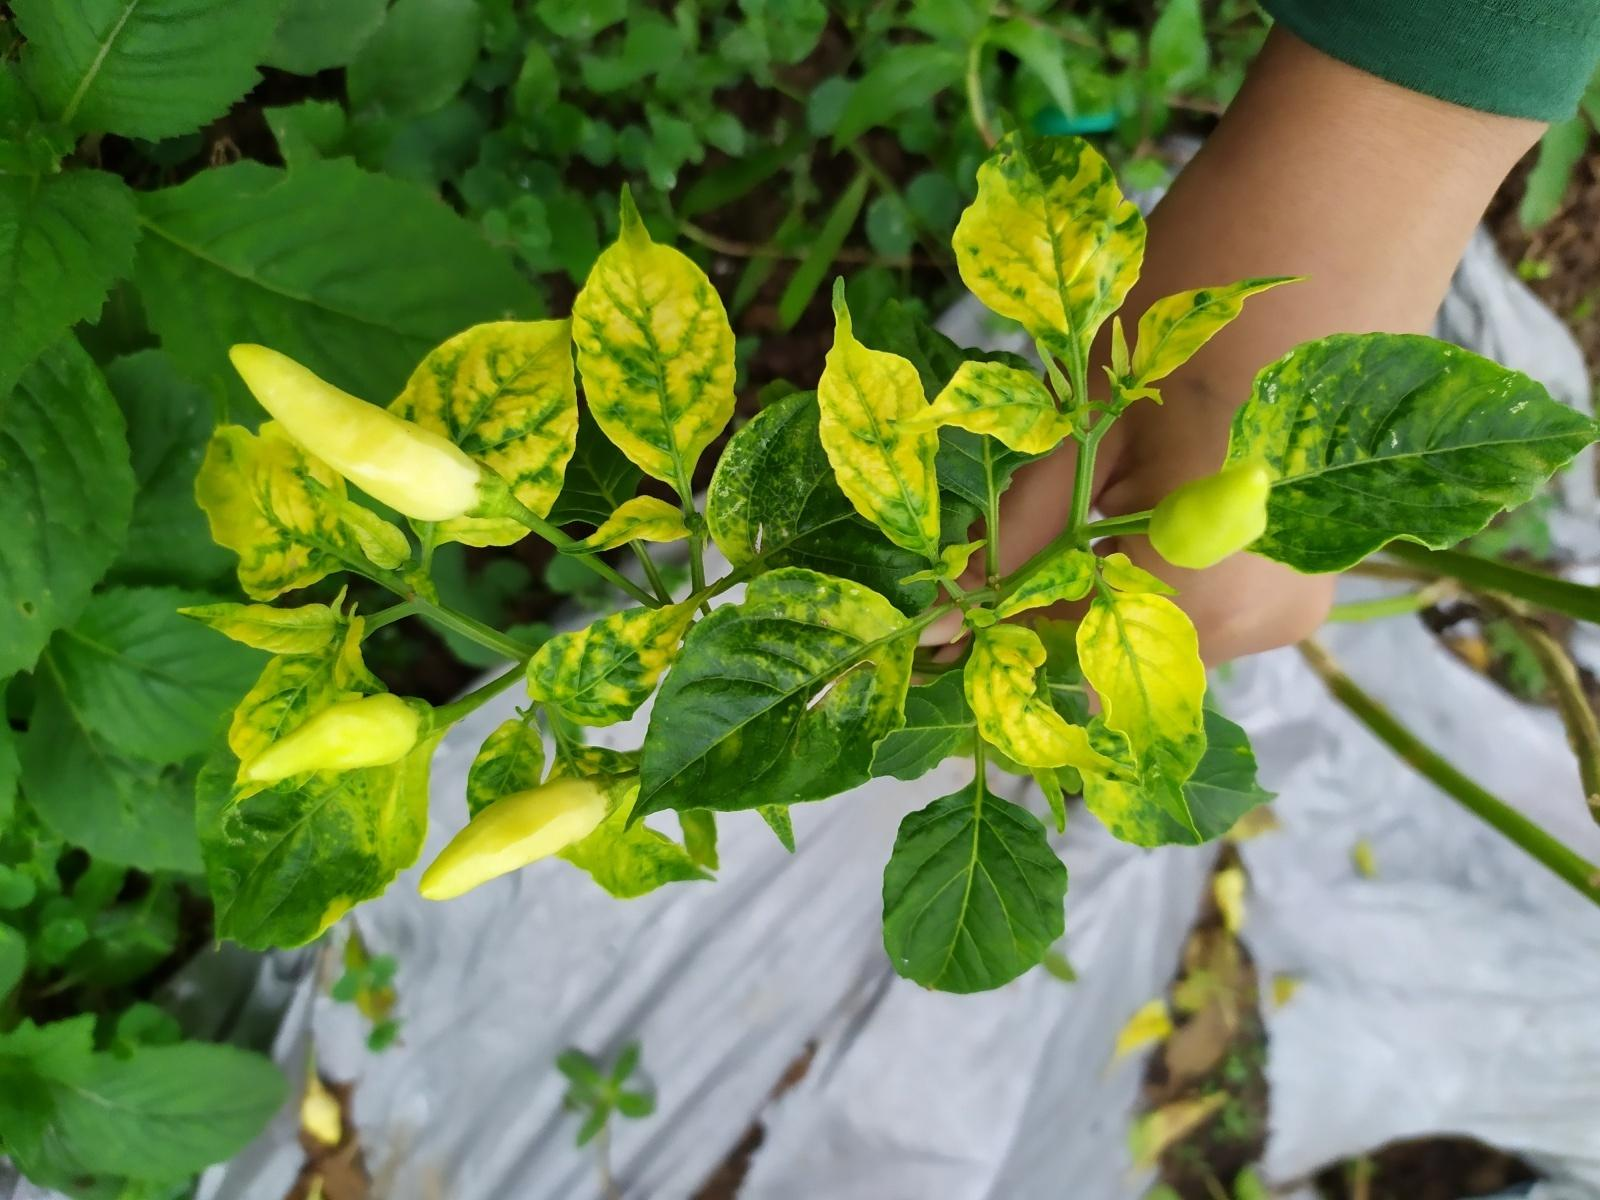cabai_normal: (229, 343, 483, 523), (418, 776, 609, 901), (249, 693, 422, 782), (1146, 465, 1274, 571)
